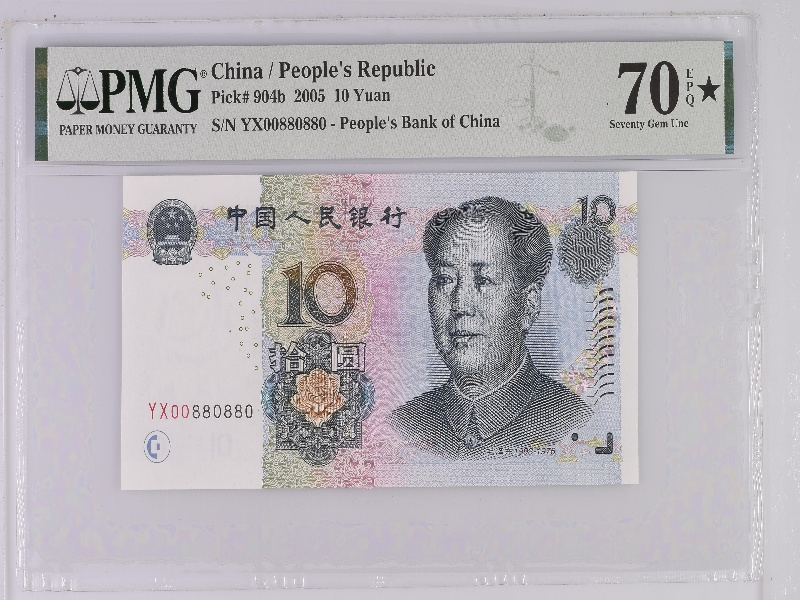papernote: (122, 173, 640, 491)
